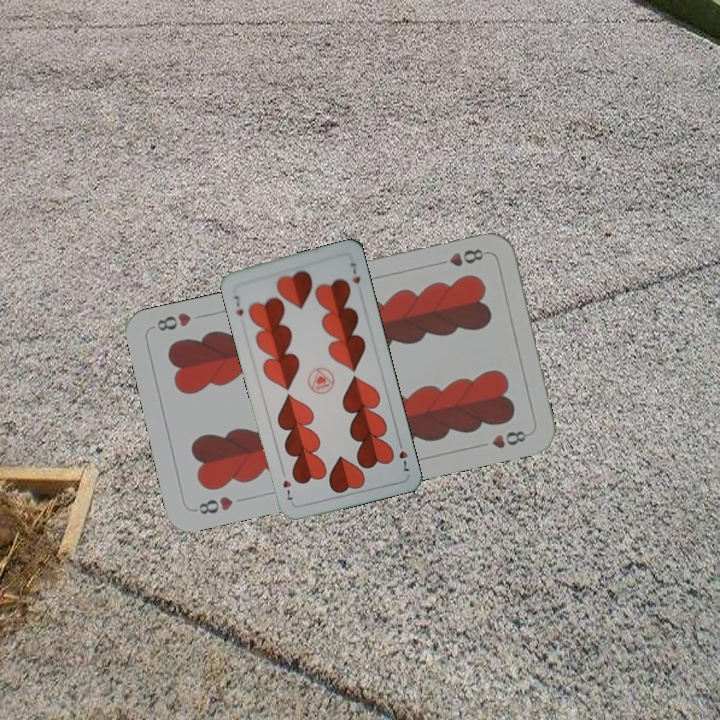H7: (394, 436, 412, 474), (228, 292, 246, 318)
H8: (432, 245, 490, 269), (190, 492, 236, 517)
